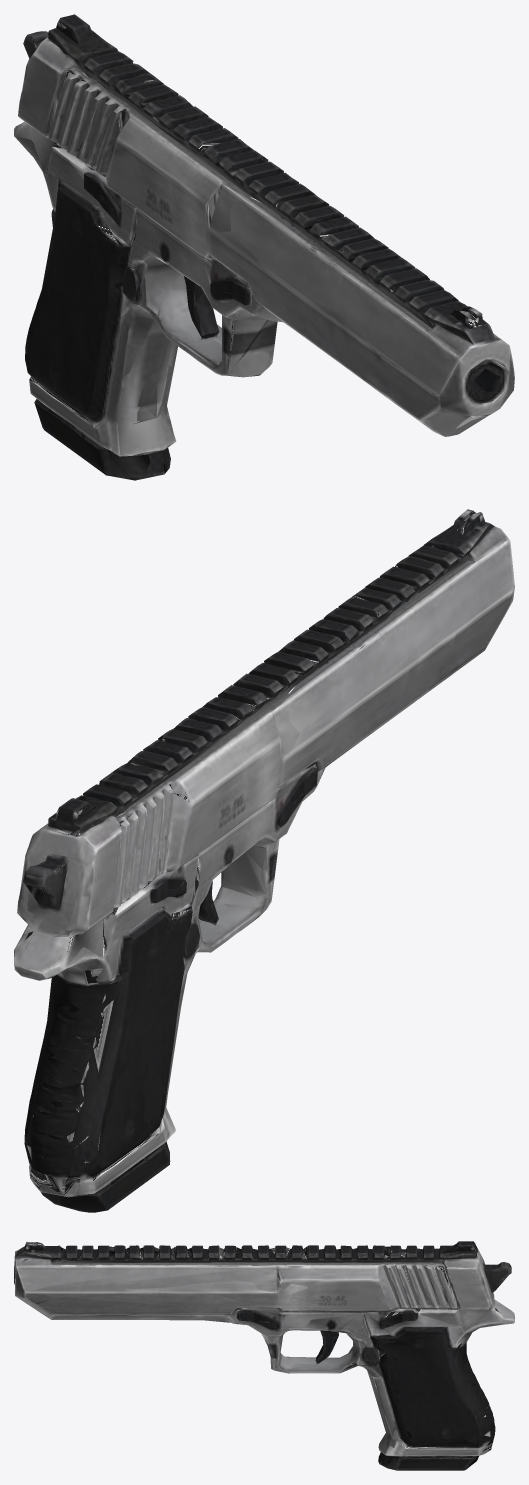
File: desert_eagle.glb
3 renders of one model, top to bottom at view 1: azimuth 30°, elevation 25°; view 2: azimuth 150°, elevation 25°; view 3: azimuth 270°, elevation 25°, orthographic. The views are drawn at different scales.
Visible parts, largest first — view 1: model, mesh_lod; view 2: model, mesh_lod; view 3: model, mesh_lod.
Boxes of the visible parts, bbox=[...] form: model: bbox=[14, 14, 514, 477]; mesh_lod: bbox=[15, 21, 514, 480]; model: bbox=[14, 509, 514, 1212]; mesh_lod: bbox=[14, 511, 510, 1206]; model: bbox=[14, 1241, 514, 1470]; mesh_lod: bbox=[14, 1242, 513, 1465].
Size of the model in its own units: 0.0265 by 0.1315 by 0.27.
1 material, 1 textured.
